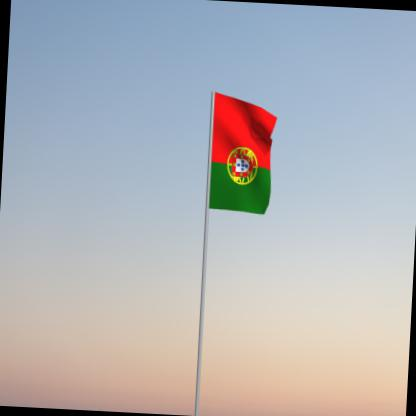pt: (209, 93, 279, 218)
